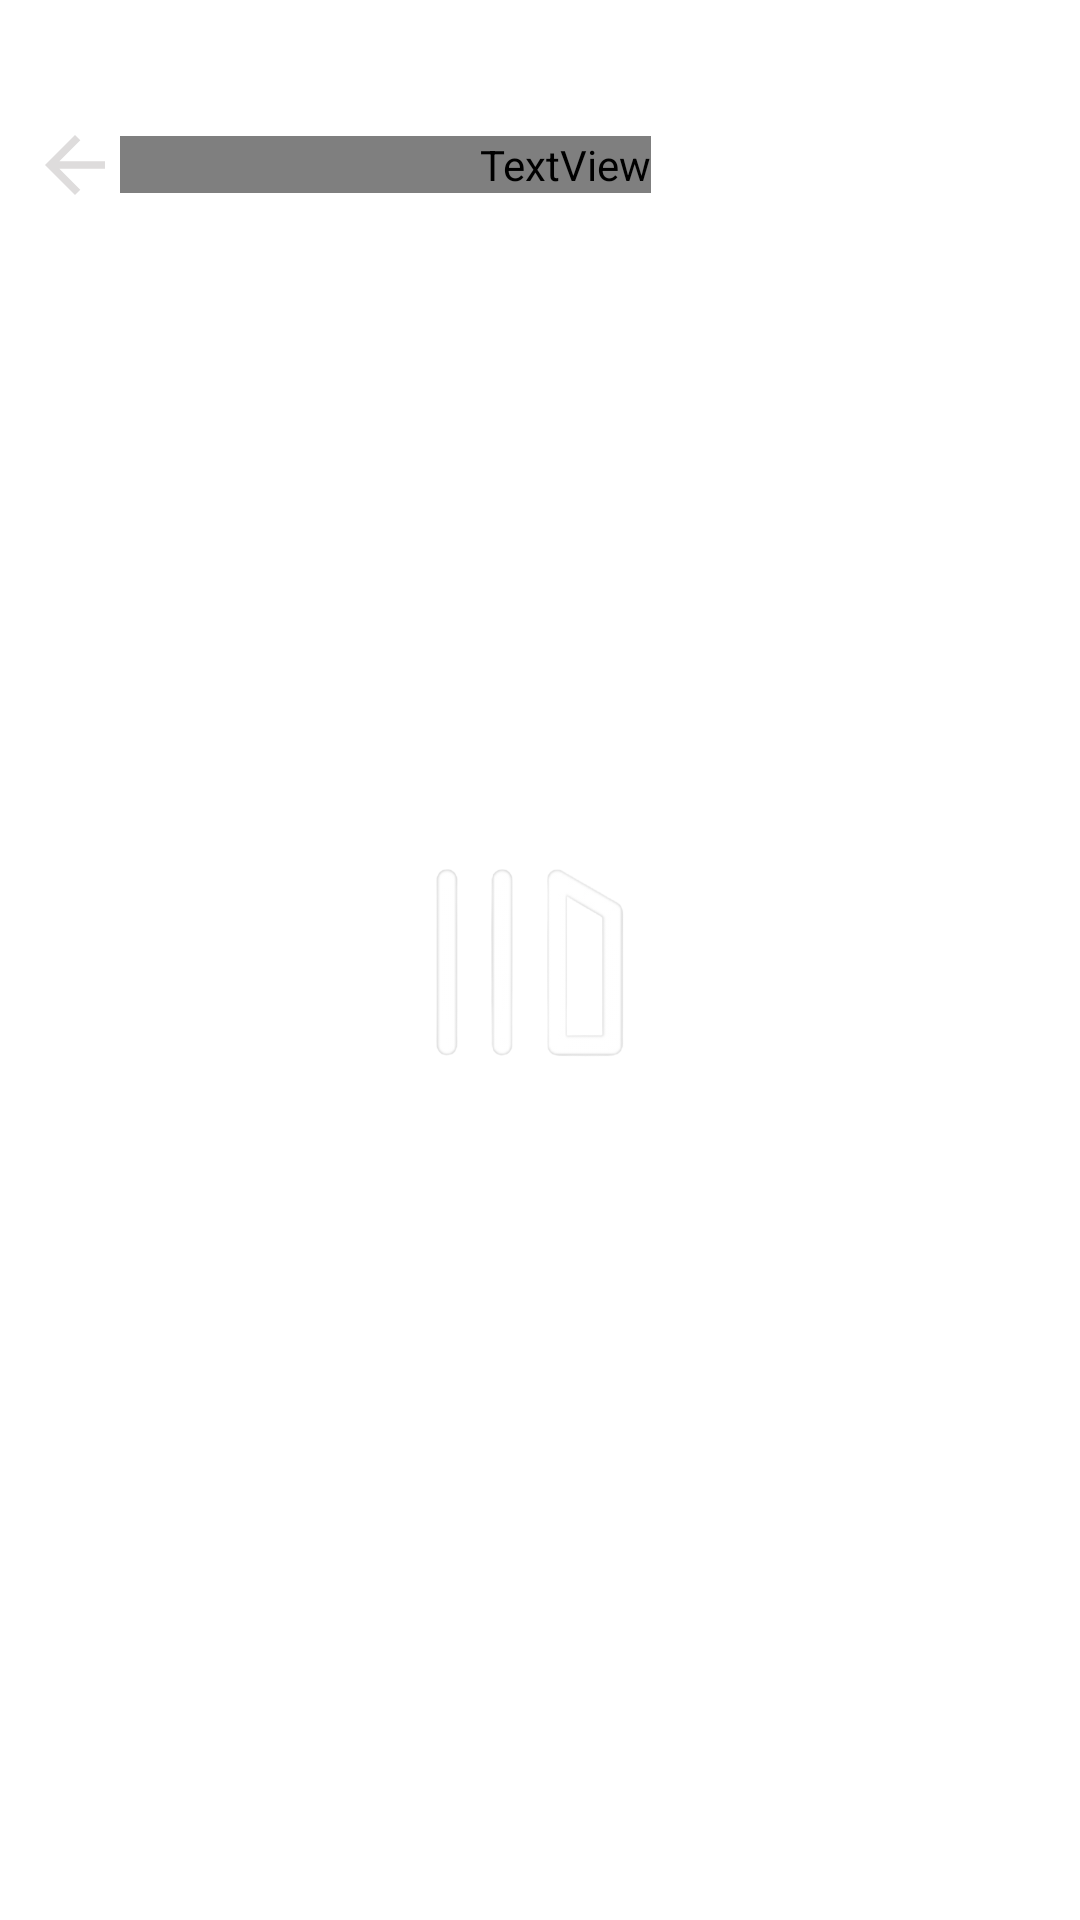

Icons on this 1080 × 1920 Android screen, each with the point to tap as point (x, y):
back arrow: point (75, 165)
libr: point (530, 962)
